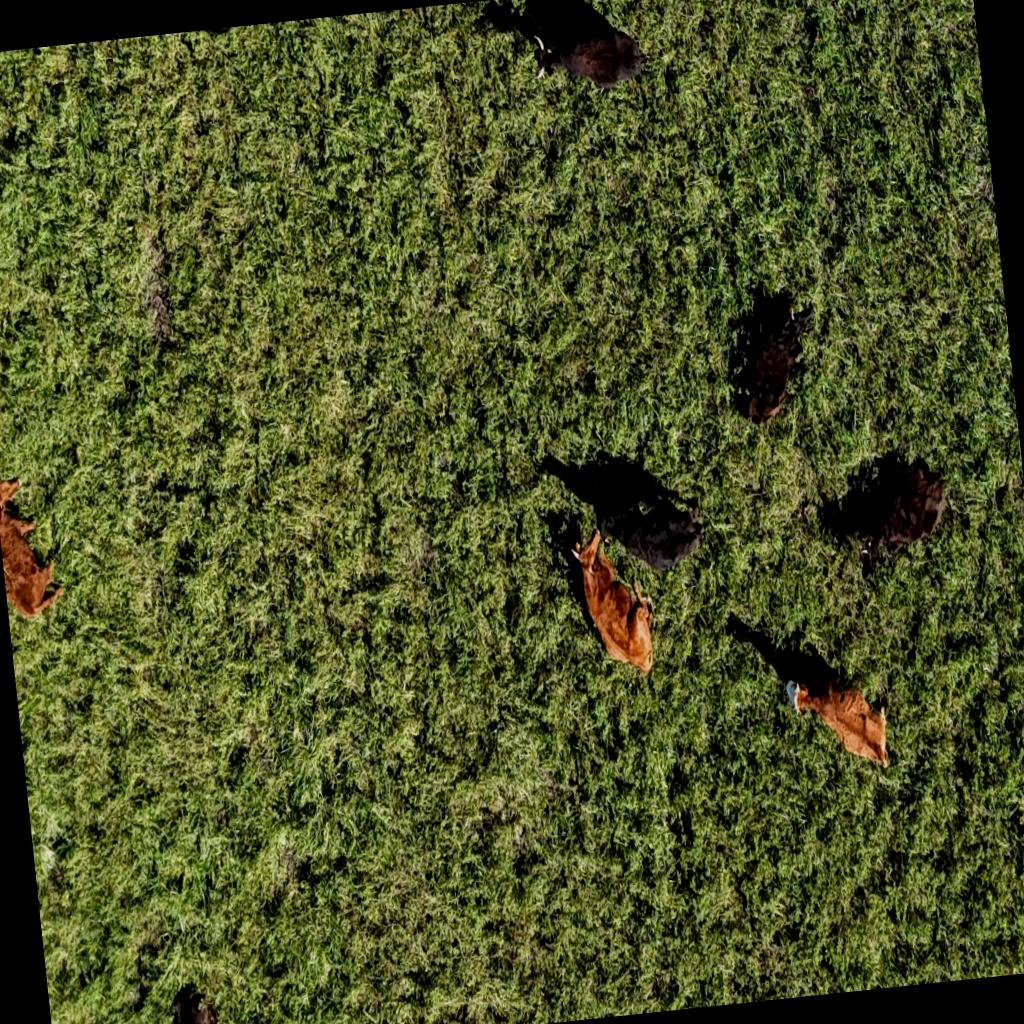cow: (535, 388, 728, 584), (546, 518, 686, 732), (480, 0, 684, 125), (760, 632, 918, 792), (836, 454, 988, 584), (726, 278, 852, 424), (0, 441, 86, 651)
